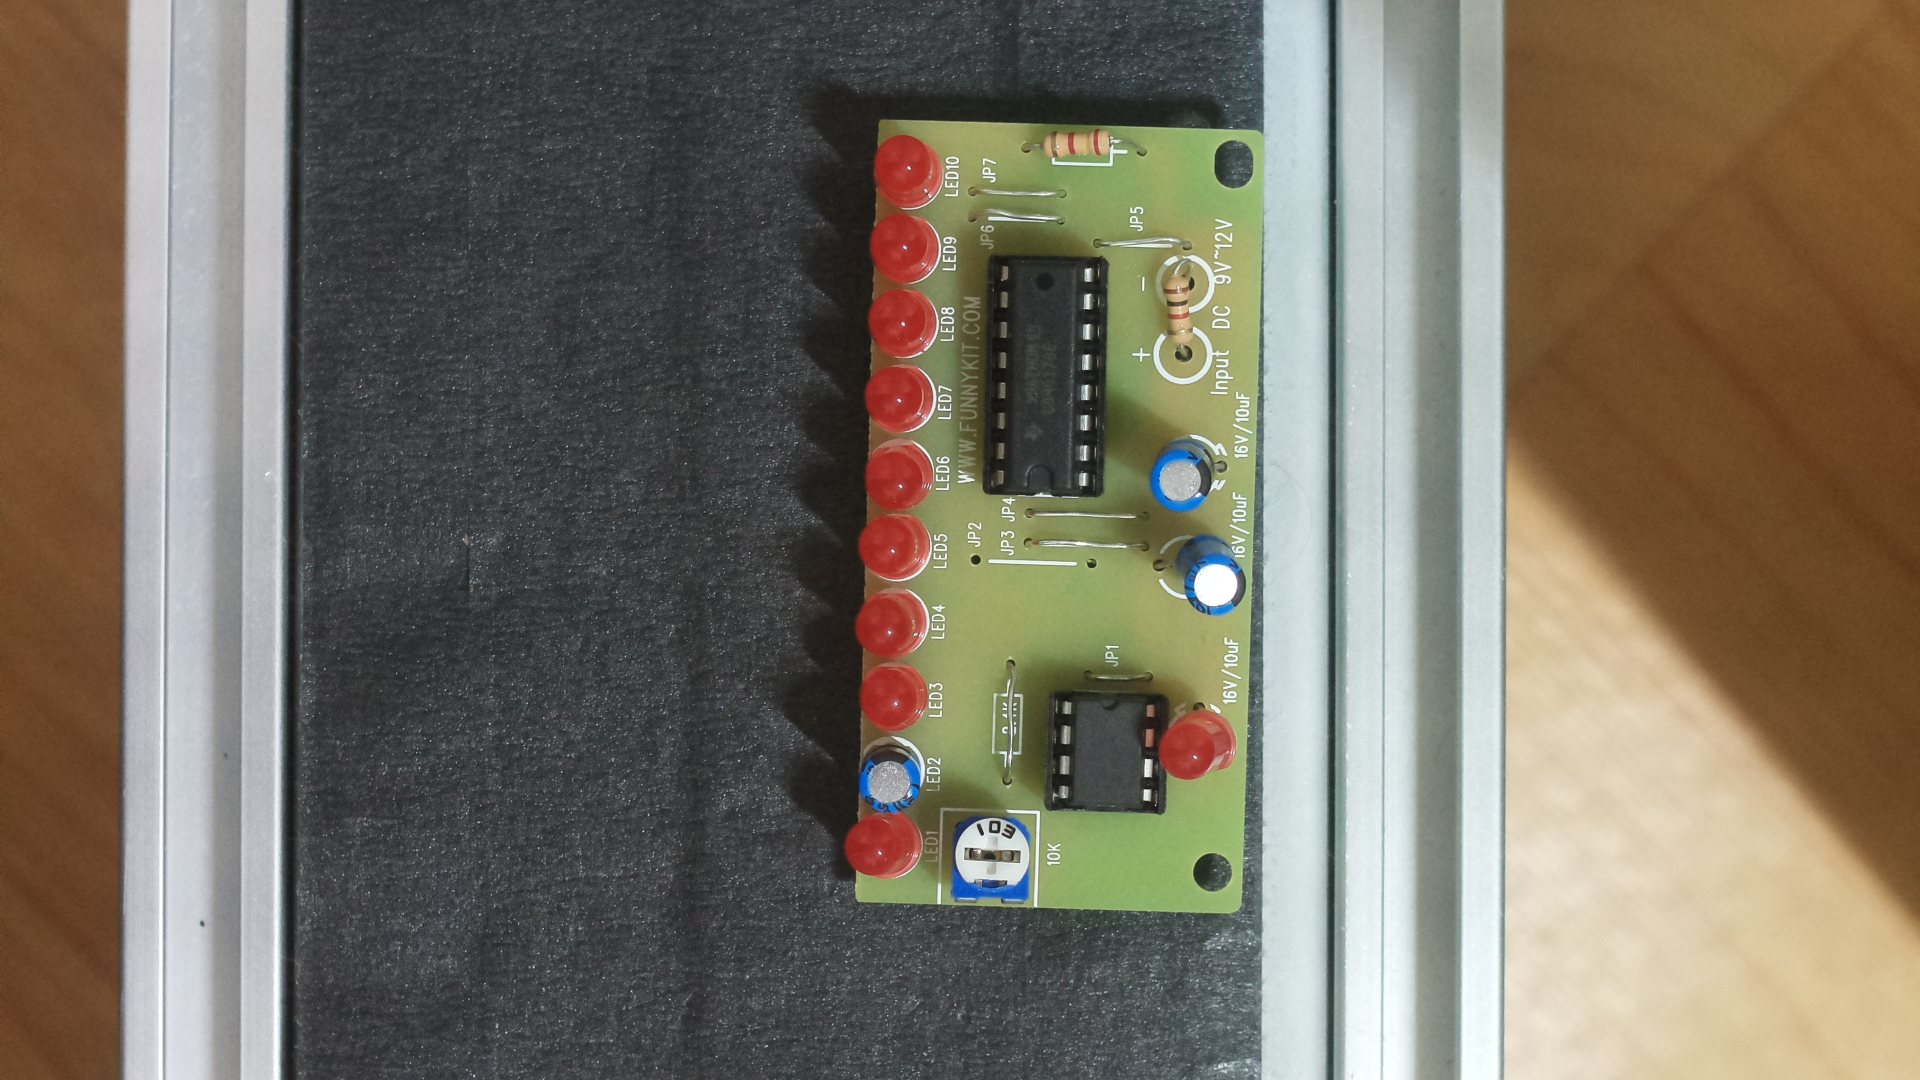B_Misordered: (825, 102, 1288, 923)
